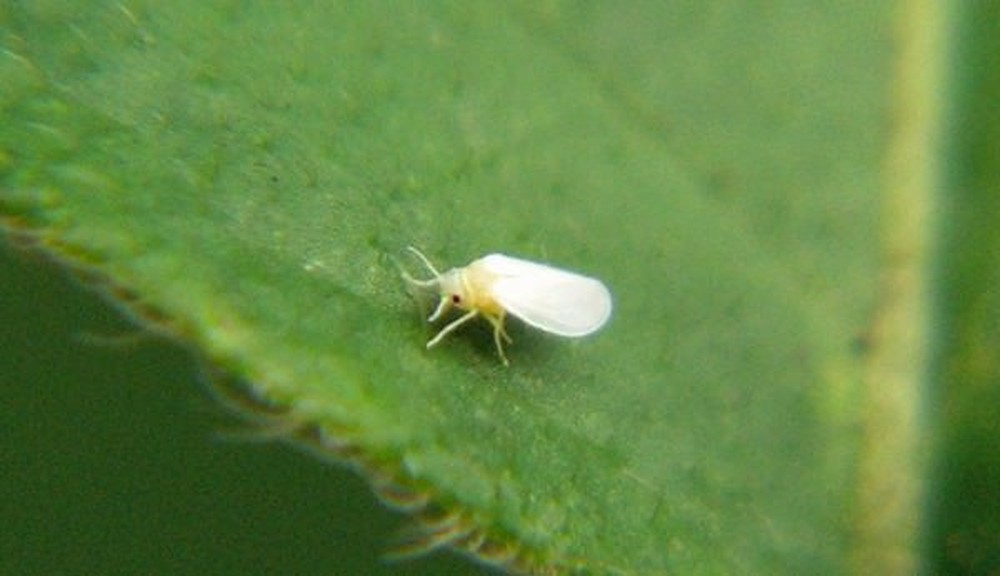Mosca Blanca: (381, 226, 634, 389)
